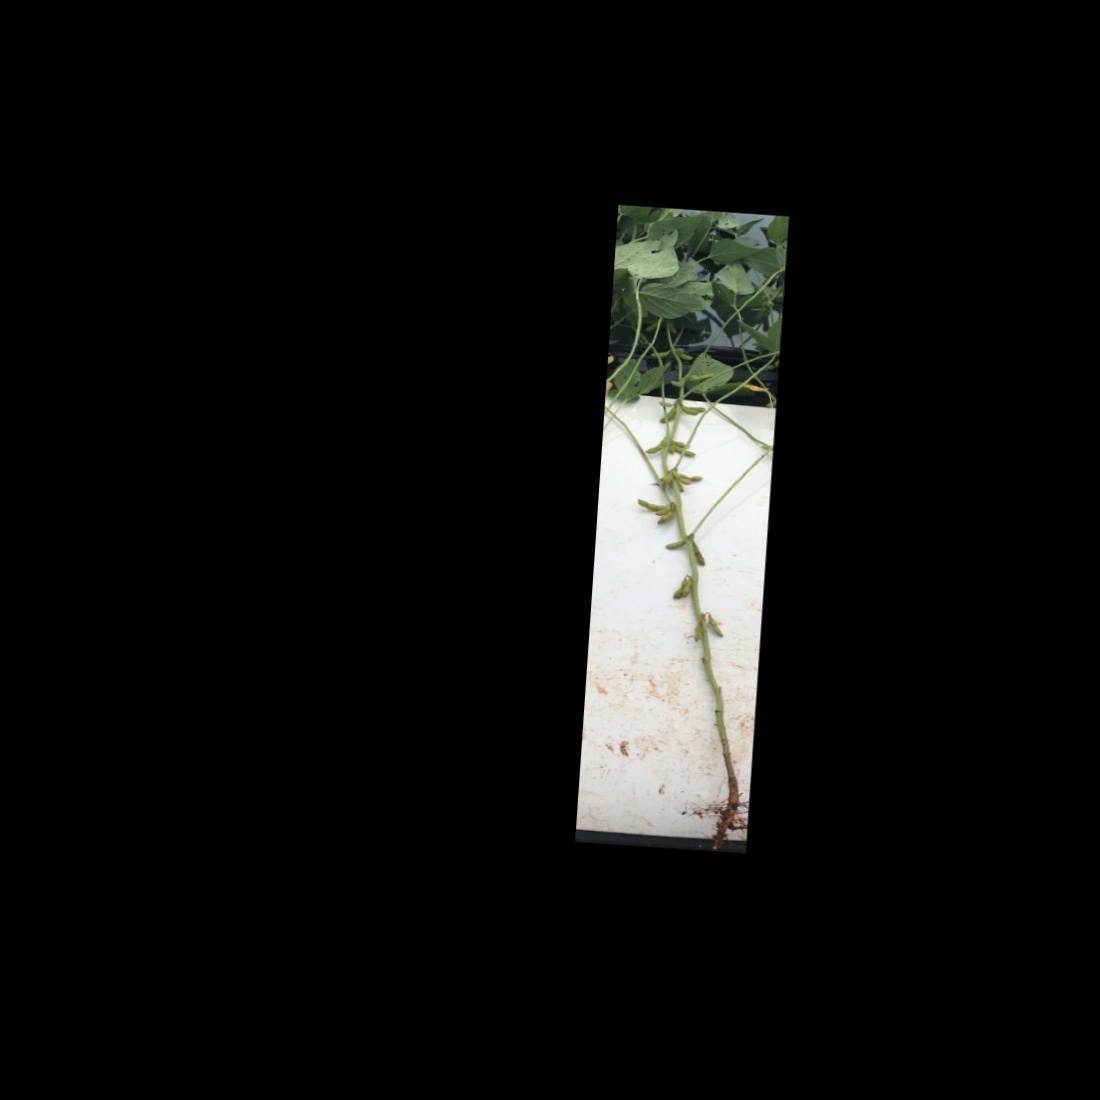pod: (656, 534, 689, 553), (640, 435, 666, 457), (705, 612, 726, 640), (656, 401, 677, 425), (652, 502, 679, 519), (644, 348, 674, 363), (655, 508, 675, 527)
soy: (582, 208, 779, 842)
